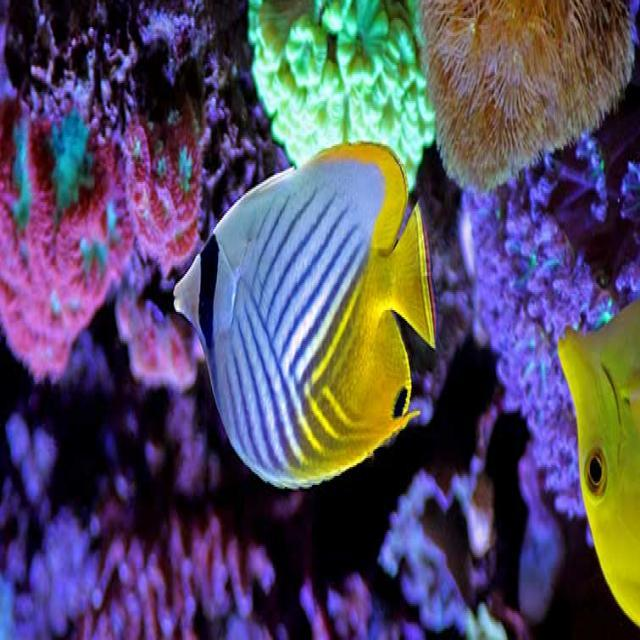ButterflyFish: (174, 132, 430, 500), (559, 274, 640, 636)
